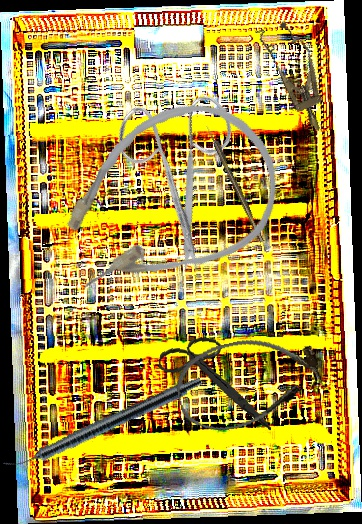Cannula: (27, 75, 304, 325), (169, 324, 328, 440)
Handpiece: (2, 370, 204, 479)
Hook Surgical: (205, 123, 265, 244)
Iris Scissors: (76, 62, 294, 280), (151, 332, 283, 430)
Speculum: (254, 15, 339, 139)
